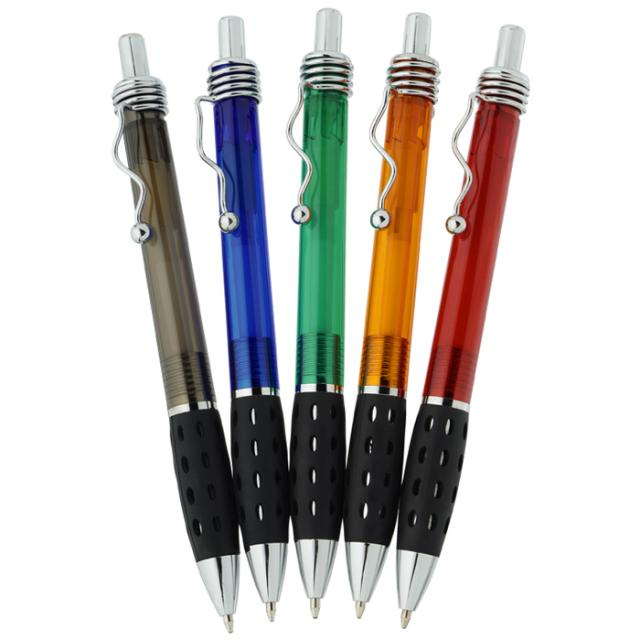pen: (114, 0, 538, 640)
